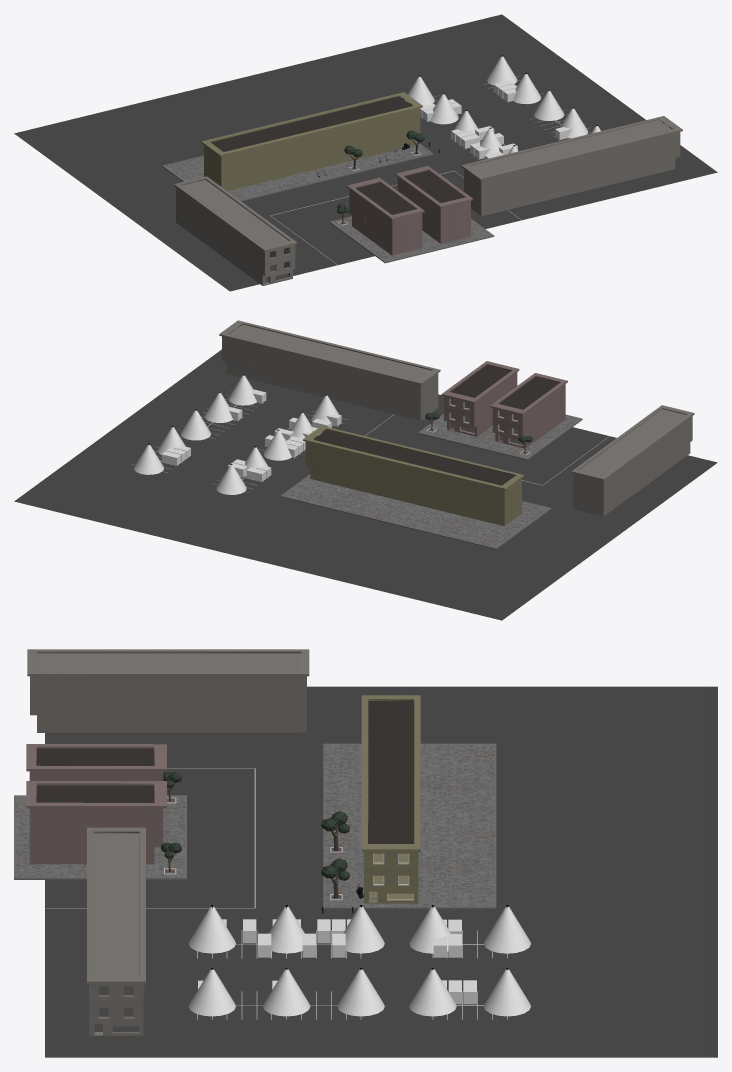
Rendered from Comissariat.fbx.
3 views of the same model, one above another, from view 1: azimuth 30°, elevation 25°; view 2: azimuth 150°, elevation 25°; view 3: azimuth 270°, elevation 25° (orthographic). The views are drawn at different scales.
Visible parts, largest first — view 1: Sol_1, Mur_2_1, Commissariat_1, Mur_1_1, Builidng2, Builidng1, Trottoirs2, Trottoirs_2, Cone_5, Cone_2, Cone_4, Cone_3 (+2 smaller); view 2: Sol_1, Commissariat_1, Mur_2_1, Mur_1_1, Trottoirs2, Builidng2, Builidng1, Trottoirs_2, Cone_3, Cone_5, Cone, Cone_8 (+2 smaller); view 3: Sol_1, Mur_1_1, Trottoirs2, Commissariat_1, Mur_2_1, Builidng1, Builidng2, Trottoirs_2, Cone, Cone_5, Cone_3, Cone_4 (+6 smaller).
Part boxes in pixels (x1,y1,x2,y2): Sol_1: [14, 14, 717, 291]; Mur_2_1: [461, 116, 682, 216]; Commissariat_1: [201, 92, 422, 190]; Mur_1_1: [174, 176, 297, 285]; Builidng2: [347, 177, 424, 255]; Builidng1: [395, 166, 473, 243]; Trottoirs2: [162, 140, 433, 201]; Trottoirs_2: [329, 216, 494, 263]; Cone_5: [534, 90, 564, 120]; Cone_2: [430, 94, 458, 124]; Cone_4: [513, 74, 541, 104]; Cone_3: [487, 56, 517, 85]; Sol_1: [14, 349, 717, 620]; Commissariat_1: [303, 425, 524, 526]; Mur_2_1: [219, 320, 440, 420]; Mur_1_1: [571, 405, 694, 516]; Trottoirs2: [280, 474, 551, 549]; Builidng2: [490, 373, 567, 448]; Builidng1: [441, 361, 519, 436]; Trottoirs_2: [418, 414, 582, 460]; Cone_3: [134, 444, 163, 474]; Cone_5: [181, 410, 210, 440]; Cone: [216, 465, 246, 494]; Cone_8: [263, 430, 291, 460]; Sol_1: [45, 686, 717, 1057]; Mur_1_1: [27, 649, 309, 732]; Trottoirs2: [323, 743, 496, 909]; Commissariat_1: [361, 695, 420, 903]; Mur_2_1: [87, 827, 145, 1035]; Builidng1: [26, 781, 166, 864]; Builidng2: [26, 744, 166, 780]; Trottoirs_2: [14, 795, 186, 879]; Cone: [483, 906, 530, 953]; Cone_5: [337, 969, 384, 1016]; Cone_3: [483, 969, 530, 1016]; Cone_4: [409, 969, 456, 1016].
Size of the model in its own units: 2358 by 184 by 1891.
17 materials, 14 textured.
